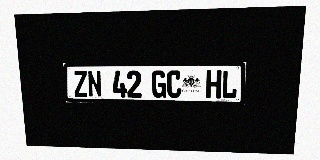2: (127, 70, 141, 98)
4: (112, 70, 127, 98)
C: (167, 70, 181, 98)
G: (152, 70, 166, 98)
H: (206, 70, 222, 98)
L: (221, 70, 238, 99)
N: (87, 70, 102, 97)
Z: (73, 71, 88, 97)
